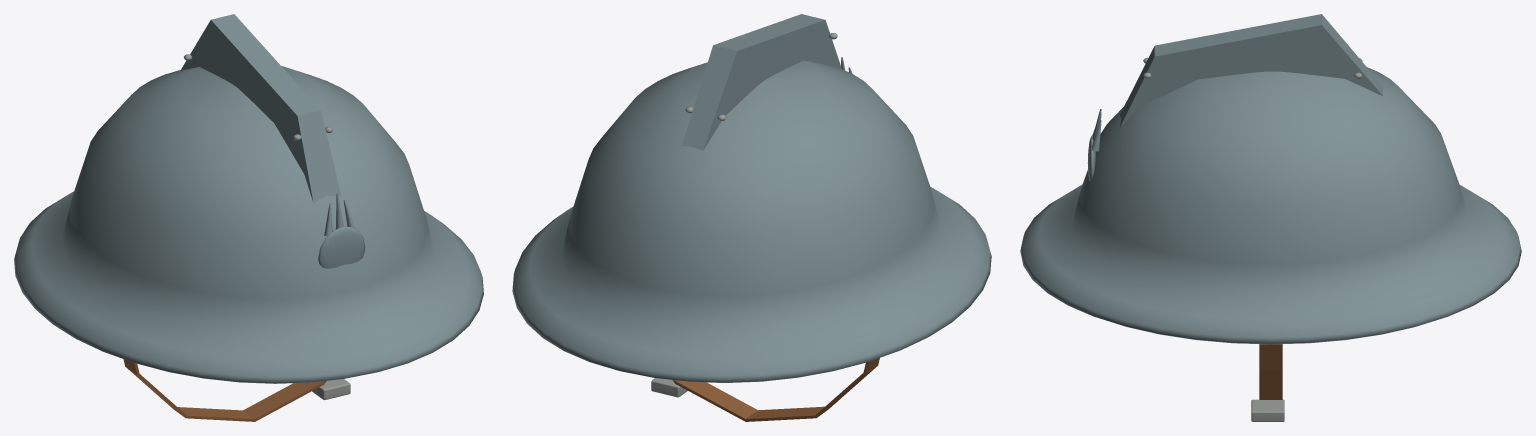
Rendered from adrian_helmet_1915_web.glb.
The picture shows the model from 3 angles, left to right: view 1: azimuth 30°, elevation 25°; view 2: azimuth 150°, elevation 25°; view 3: azimuth 270°, elevation 25°; orthographic projection. The views are drawn at different scales.
Visible parts, largest first — view 1: Horizon_Blue_Steel, Walnut_Wood, Burnished_Steel; view 2: Horizon_Blue_Steel, Walnut_Wood, Burnished_Steel; view 3: Horizon_Blue_Steel, Walnut_Wood, Burnished_Steel.
Part boxes in pixels (x1=…): Horizon_Blue_Steel: x1=14, y1=14, x2=483, y2=383; Walnut_Wood: x1=123, y1=359, x2=326, y2=421; Burnished_Steel: x1=184, y1=54, x2=350, y2=400; Horizon_Blue_Steel: x1=512, y1=14, x2=991, y2=382; Walnut_Wood: x1=672, y1=358, x2=879, y2=421; Burnished_Steel: x1=651, y1=33, x2=837, y2=397; Horizon_Blue_Steel: x1=1020, y1=14, x2=1521, y2=344; Walnut_Wood: x1=1259, y1=344, x2=1282, y2=399; Burnished_Steel: x1=1143, y1=57, x2=1362, y2=421.
Size of the model in its own units: 0.3 by 0.279 by 0.345.
